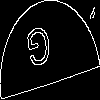G: (25, 24, 53, 77)
